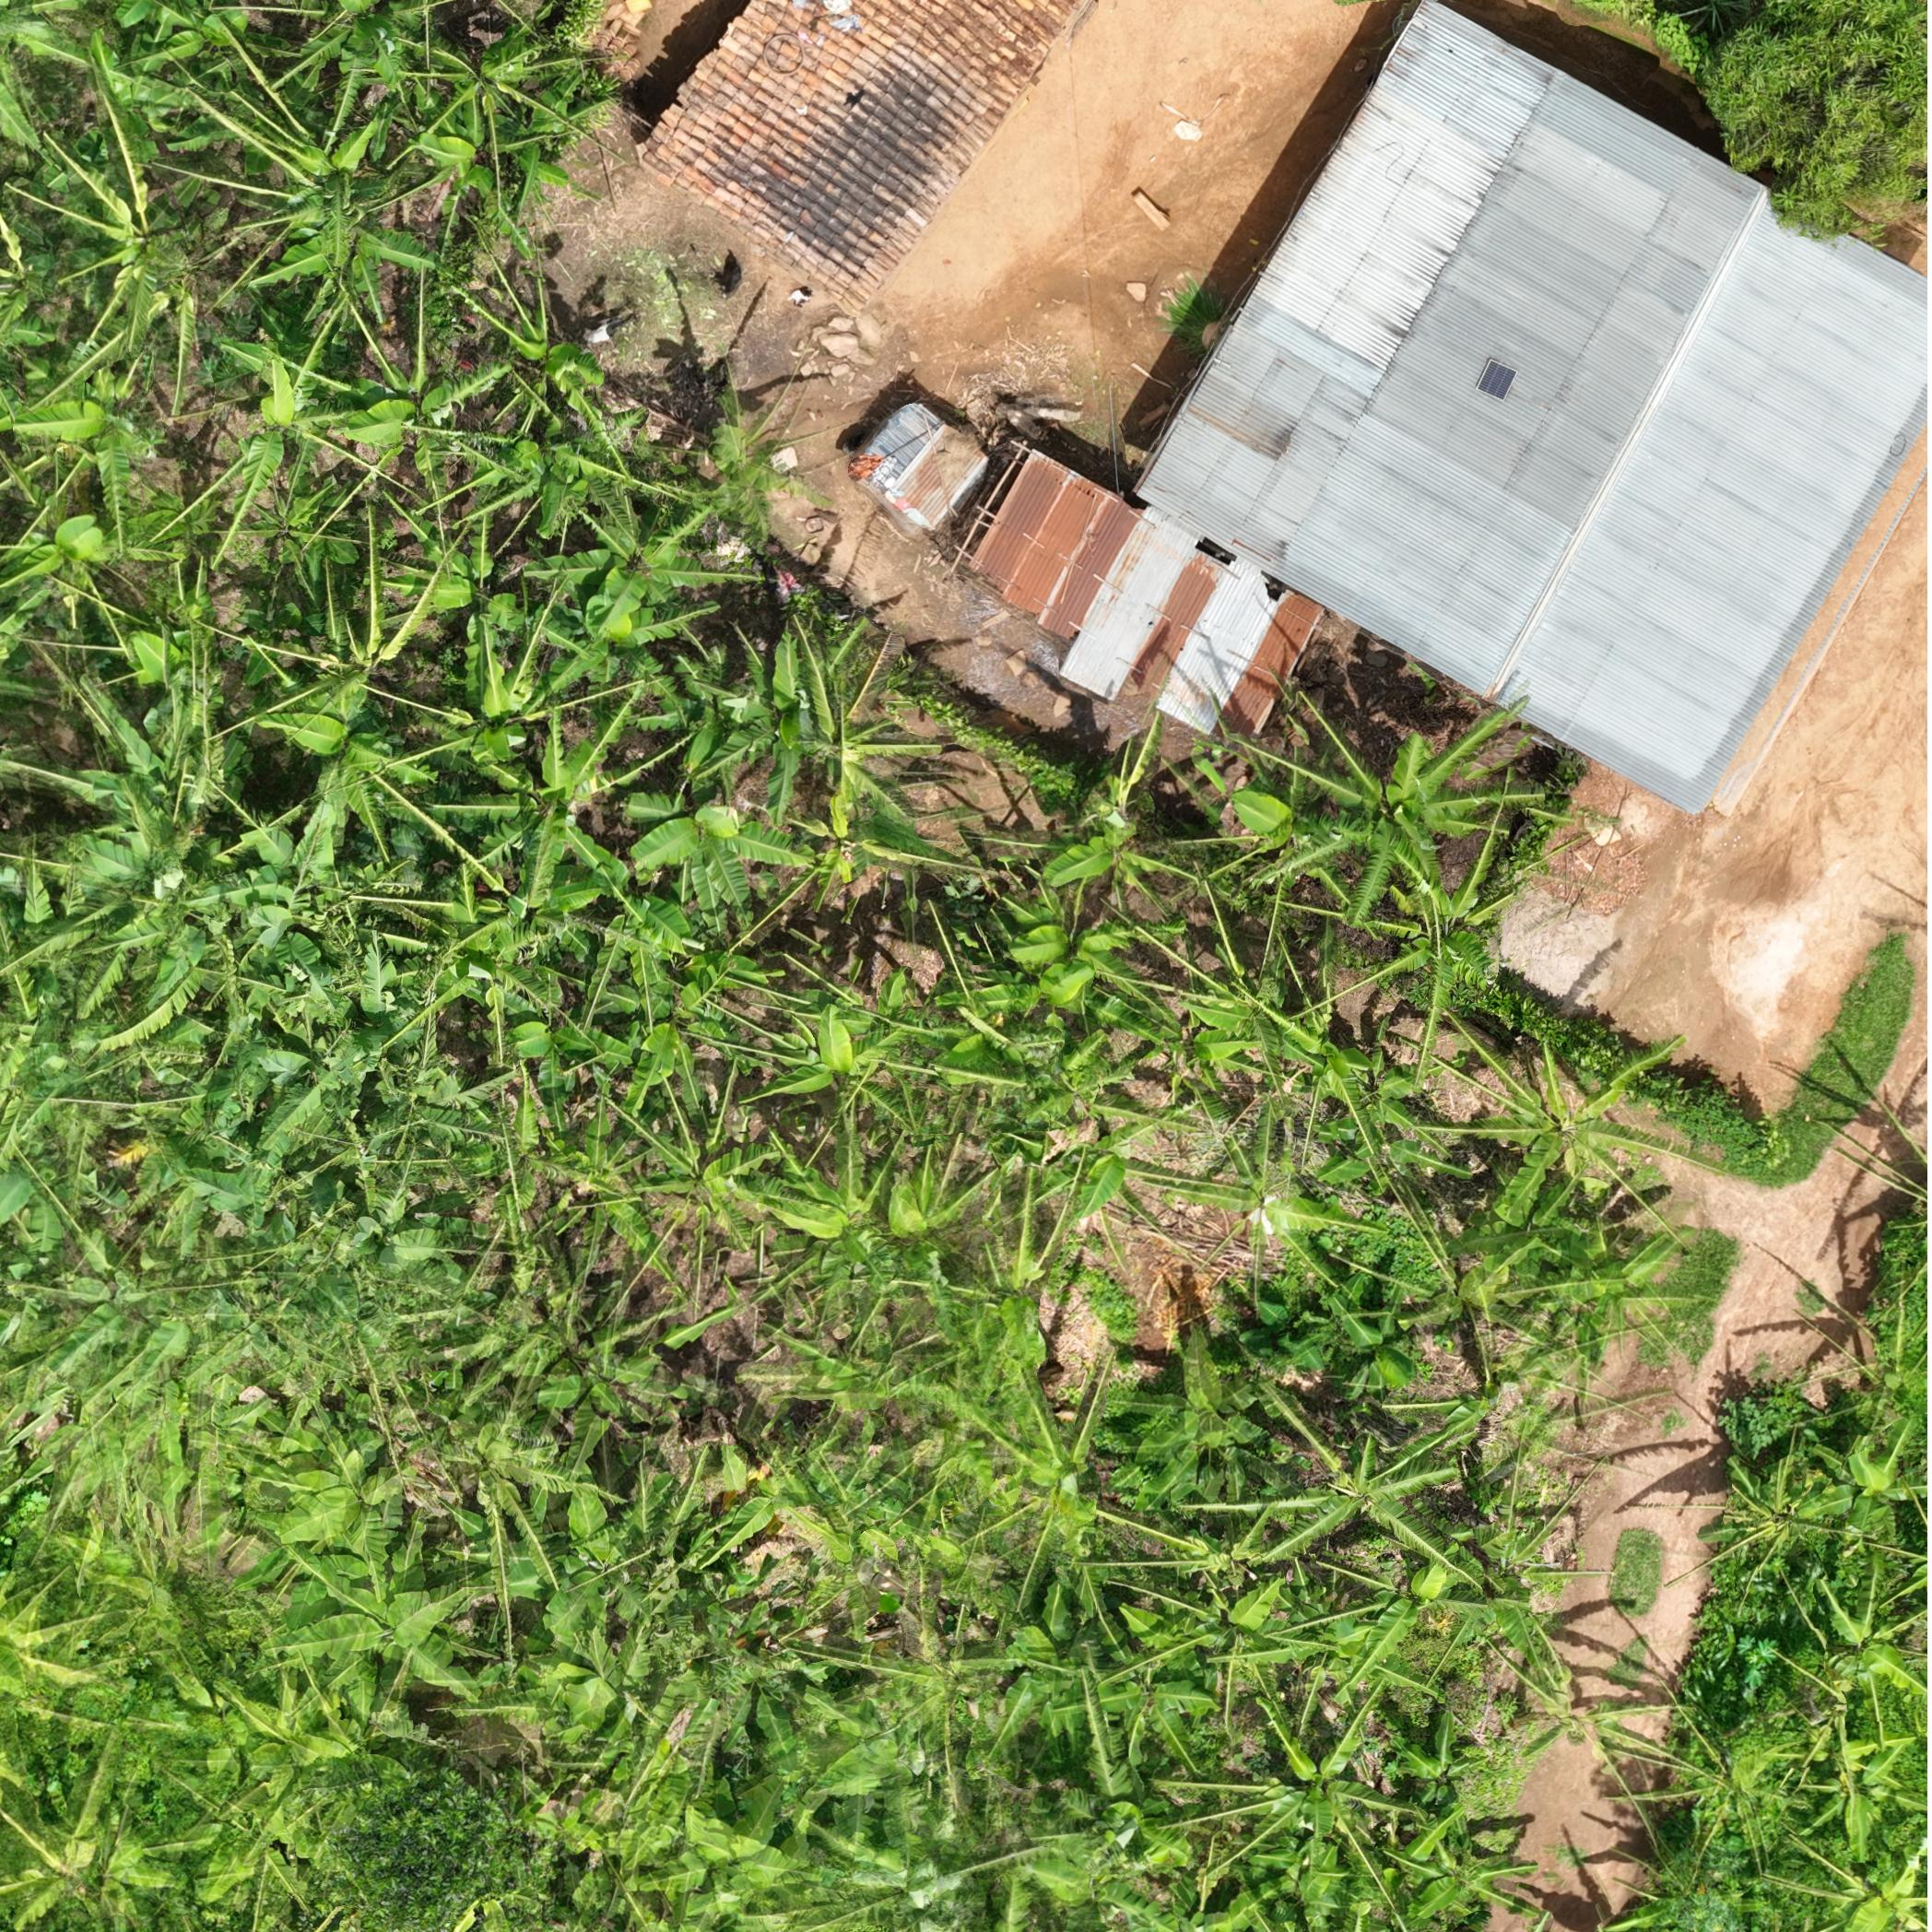Banana: (78, 1240, 387, 1421), (288, 851, 563, 1054), (582, 1523, 775, 1737), (244, 94, 425, 318), (73, 738, 258, 952), (849, 1614, 1037, 1801), (481, 1286, 683, 1454), (499, 1083, 671, 1279), (41, 150, 212, 338), (780, 1136, 966, 1300), (708, 640, 888, 801), (258, 671, 432, 837), (763, 1316, 971, 1454), (1468, 1051, 1647, 1210), (1297, 720, 1458, 890), (987, 1401, 1131, 1591), (423, 37, 550, 239), (1162, 1523, 1309, 1693), (1516, 1189, 1675, 1345), (786, 966, 941, 1125), (1286, 1426, 1456, 1569), (1424, 1507, 1566, 1677), (1272, 1008, 1433, 1157), (488, 732, 646, 883), (1359, 867, 1507, 1024), (471, 295, 614, 453), (1230, 1716, 1371, 1872), (1198, 1138, 1345, 1286), (538, 502, 695, 630), (343, 341, 502, 467), (1180, 929, 1292, 1106), (1000, 897, 1152, 1026), (221, 350, 359, 490), (393, 501, 531, 639), (1794, 1583, 1927, 1723), (294, 1440, 418, 1587), (635, 1116, 780, 1237), (961, 1207, 1069, 1368), (278, 584, 418, 704), (14, 479, 131, 623), (324, 1580, 462, 1698), (1143, 1359, 1256, 1502), (676, 414, 786, 561), (35, 357, 170, 476), (1417, 1214, 1525, 1361), (205, 472, 345, 582), (1686, 1734, 1801, 1865), (1007, 1033, 1150, 1138), (640, 787, 764, 899), (791, 787, 931, 881), (441, 653, 556, 764), (1734, 1458, 1828, 1562), (1829, 1421, 1909, 1543), (1401, 1833, 1513, 1920), (1396, 1737, 1474, 1813)
